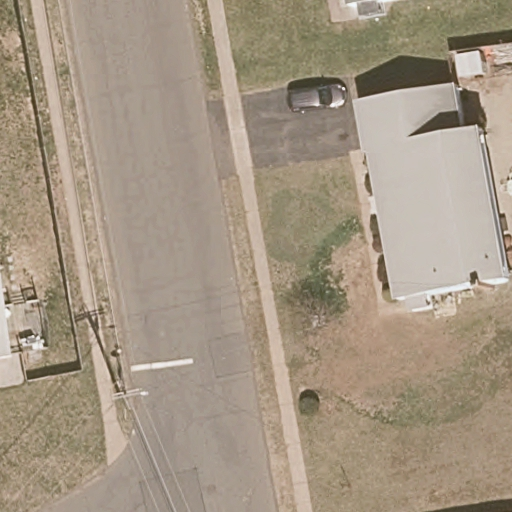DT: (112, 347, 149, 403)
